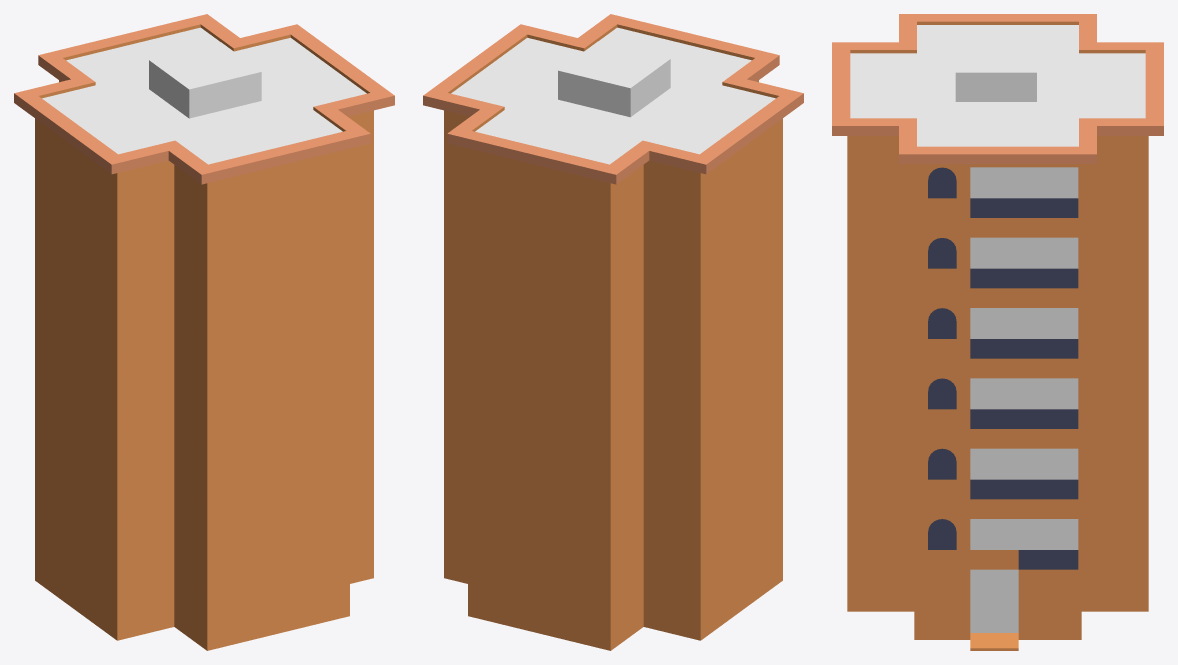
The model's file is House2.fbx.
3 renders of one model, left to right at view 1: azimuth 30°, elevation 25°; view 2: azimuth 150°, elevation 25°; view 3: azimuth 270°, elevation 25°, orthographic.
Parts seen in each view (by area): view 1: Cube.045; view 2: Cube.045; view 3: Cube.045.
Part boxes in pixels (x1,y1,x2,y2): Cube.045: (14,14,394,650); Cube.045: (423,14,803,650); Cube.045: (832,14,1163,650).
Bounding box in the file's own units: 145 × 243 × 140.
